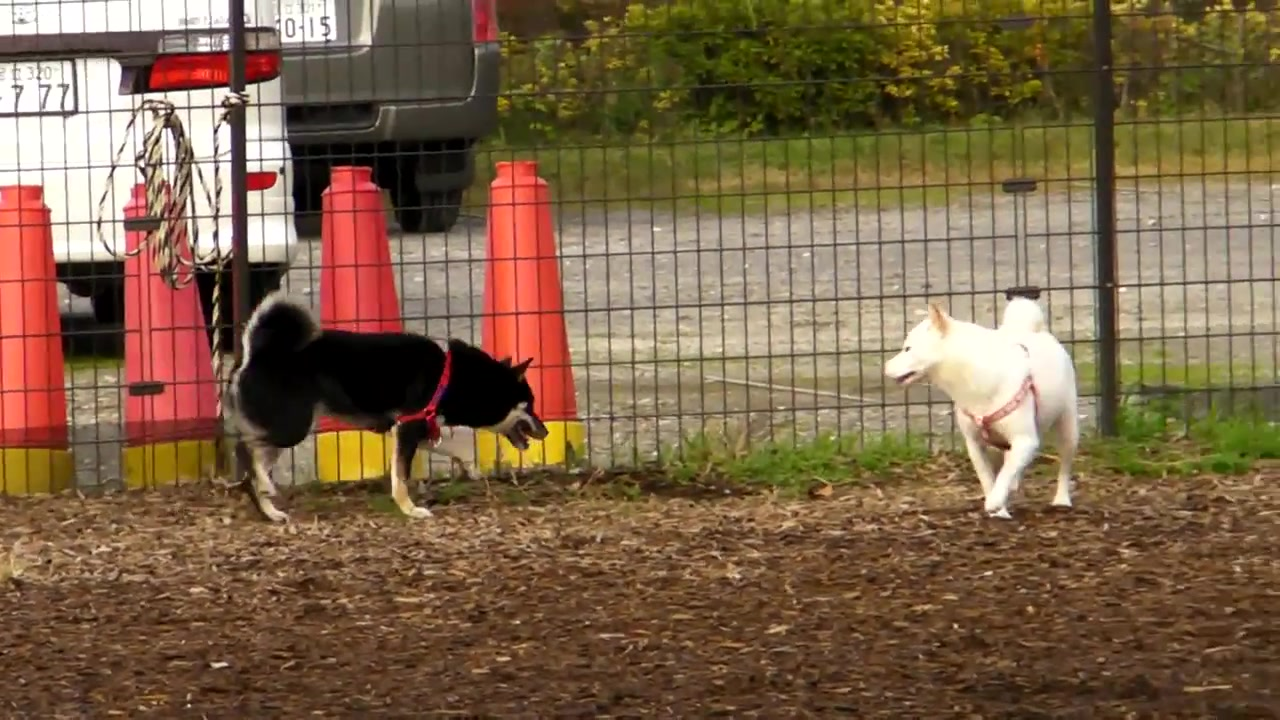dog: (232, 293, 548, 523)
